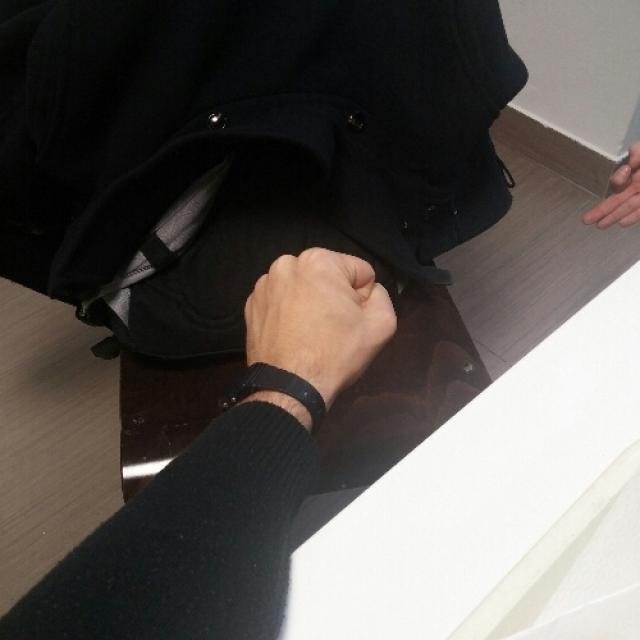rock: (243, 248, 399, 382)
